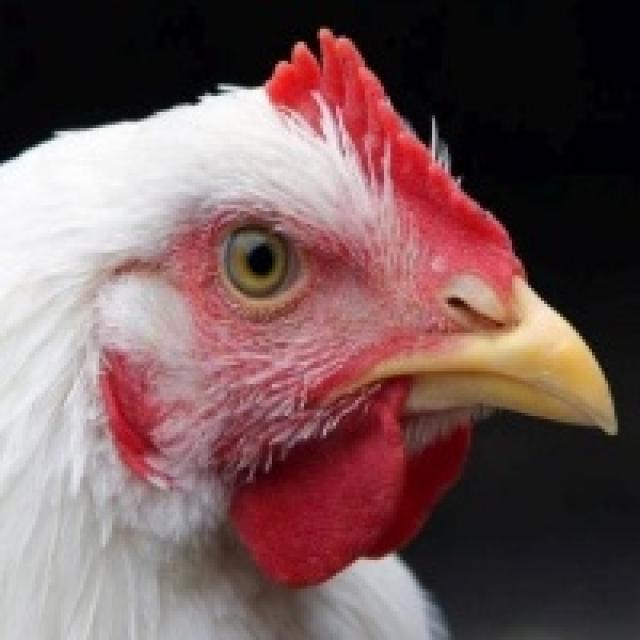Healthy: (3, 22, 618, 640)
